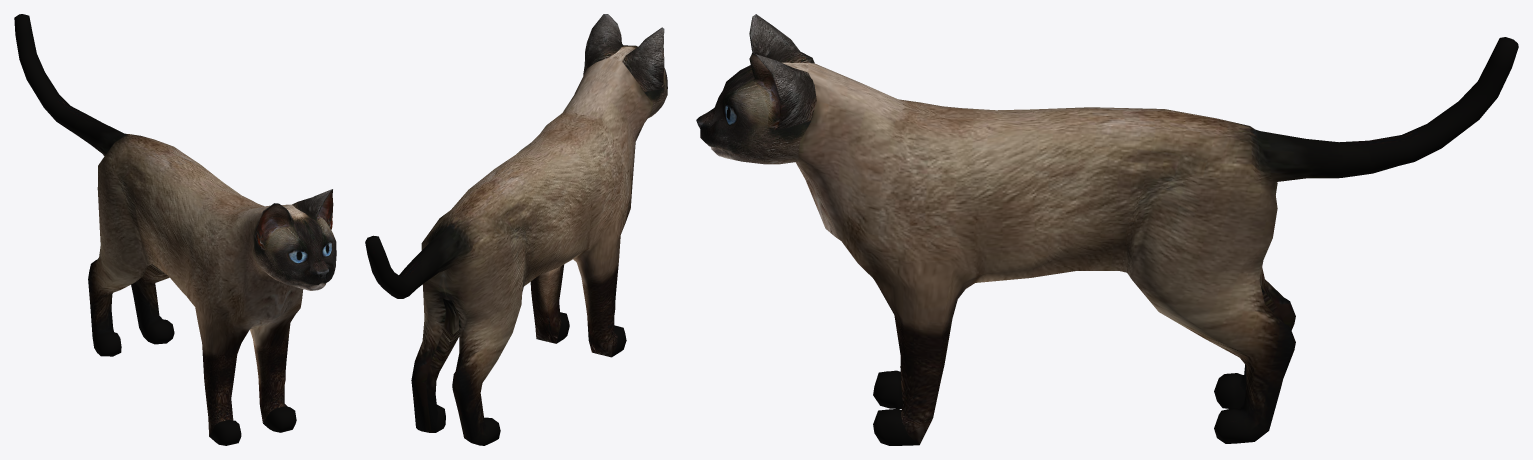
File: siameseCat.obj
3 renders of one model, left to right at view 1: azimuth 30°, elevation 25°; view 2: azimuth 150°, elevation 25°; view 3: azimuth 270°, elevation 25°, orthographic. The views are drawn at different scales.
Visible parts, largest first — view 1: 1; view 2: 1; view 3: 1.
Part boxes in pixels (left/top/right/bottom): 1: left=14, top=14, right=336, bottom=445; 1: left=365, top=14, right=667, bottom=445; 1: left=696, top=14, right=1518, bottom=445.
Size of the model in its own units: 13.3 by 42.1 by 81.3.
1 material, 1 textured.
